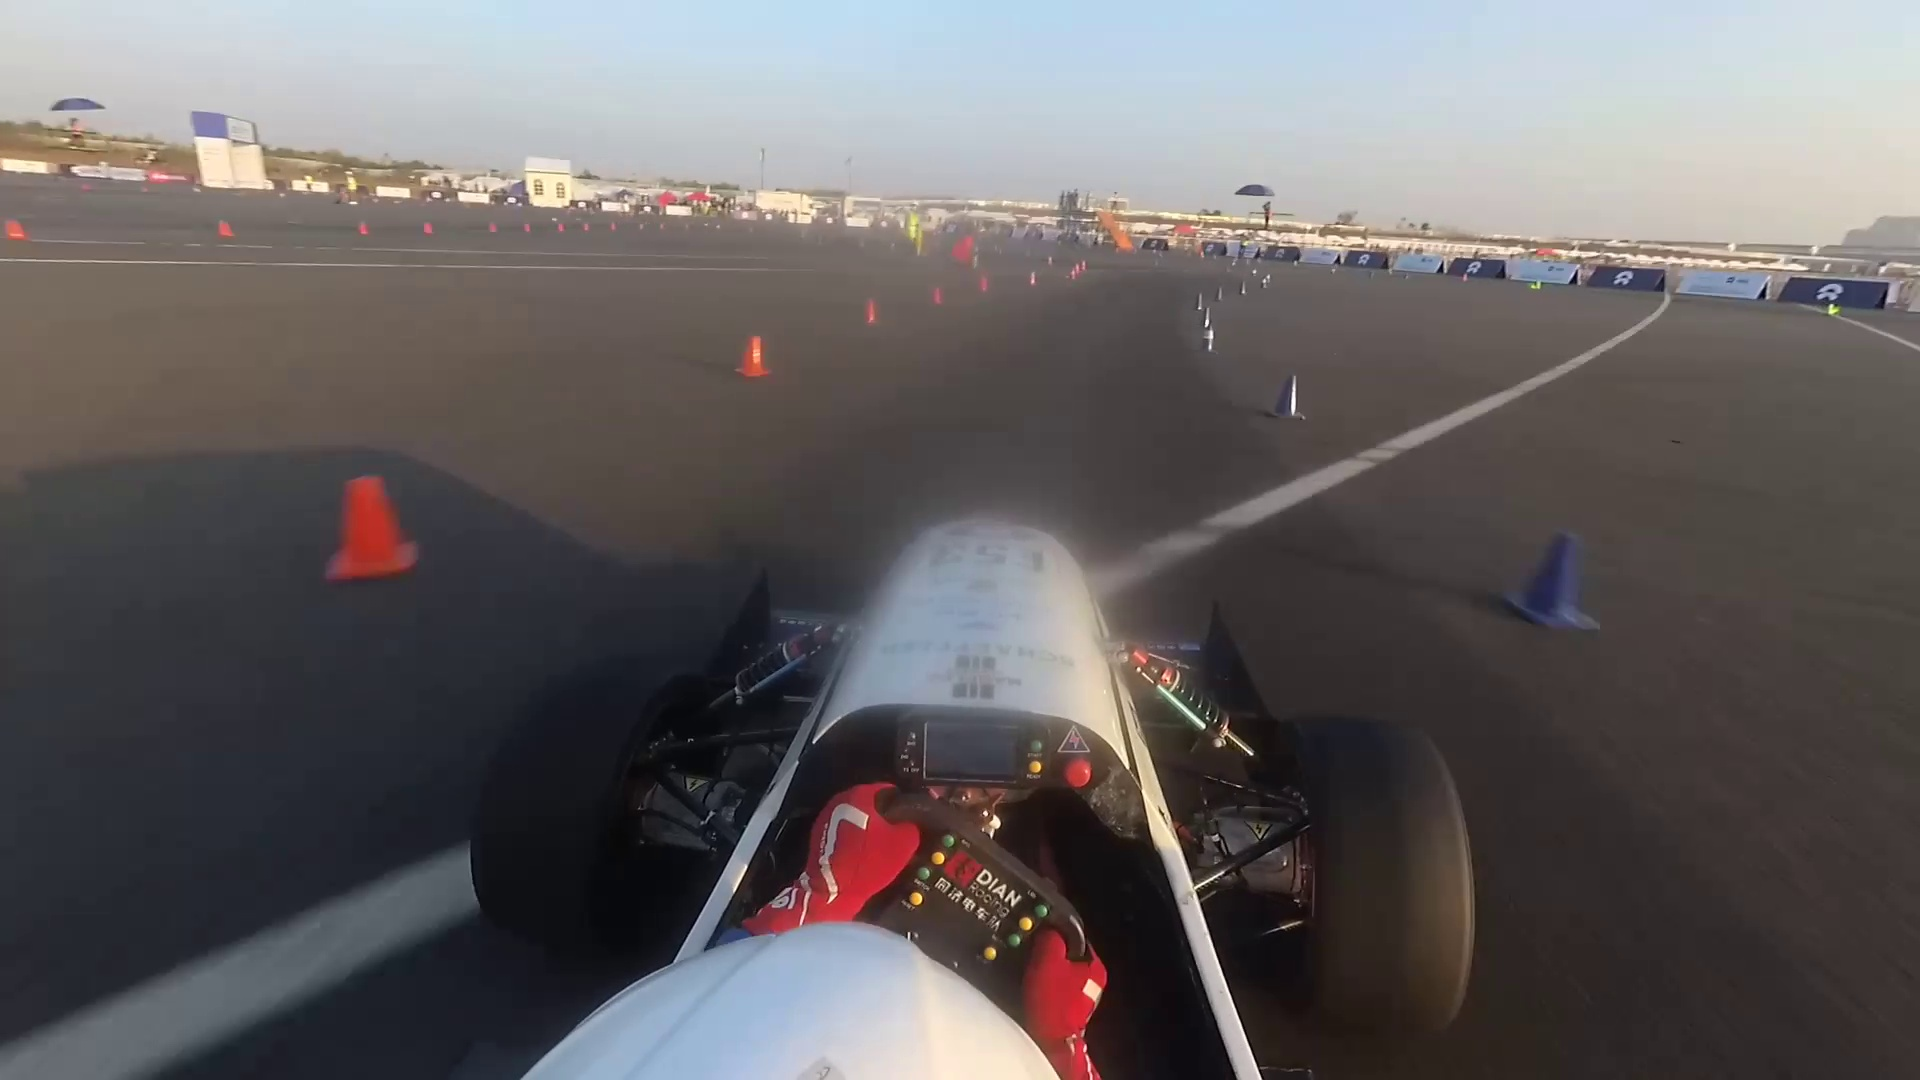blue_cone: (1510, 518, 1597, 640), (1270, 368, 1307, 421), (1203, 326, 1220, 355), (1203, 307, 1216, 328), (1196, 290, 1207, 313), (1215, 284, 1226, 303), (1238, 277, 1247, 299), (1250, 266, 1261, 280), (1261, 276, 1270, 290), (1265, 273, 1274, 284), (1385, 266, 1395, 276), (1369, 266, 1375, 281), (1331, 264, 1338, 276), (1229, 258, 1238, 268), (1150, 247, 1156, 257), (1404, 270, 1411, 280), (1212, 252, 1218, 261), (1158, 249, 1164, 258)
red_cone: (313, 473, 430, 578), (731, 316, 778, 382), (1, 207, 36, 251), (206, 214, 241, 244), (860, 295, 882, 327), (418, 219, 440, 243), (932, 281, 945, 309), (977, 272, 992, 295), (357, 216, 373, 237), (1026, 268, 1042, 287), (487, 218, 502, 237), (556, 222, 568, 237), (1044, 255, 1056, 269), (524, 218, 534, 233), (1067, 266, 1077, 281), (609, 218, 618, 233), (1075, 260, 1083, 276), (1081, 256, 1089, 272), (583, 219, 592, 231), (1197, 247, 1207, 258), (638, 216, 646, 229), (1462, 270, 1469, 285)
